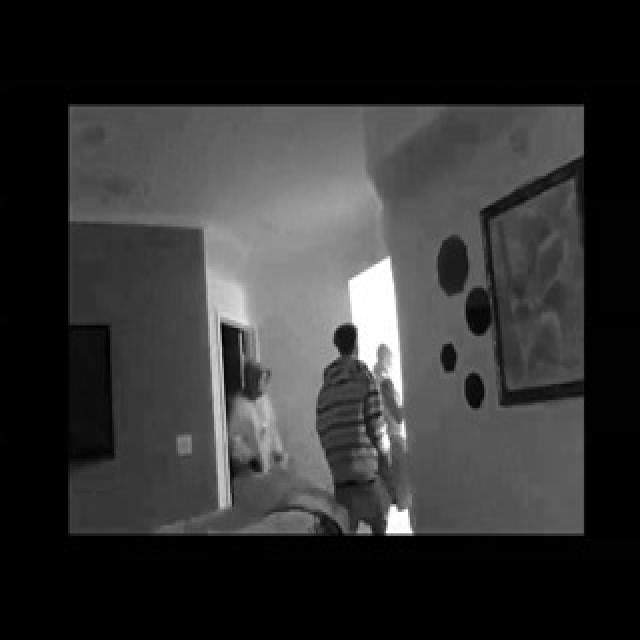thief: (319, 315, 399, 390), (234, 360, 277, 408)
